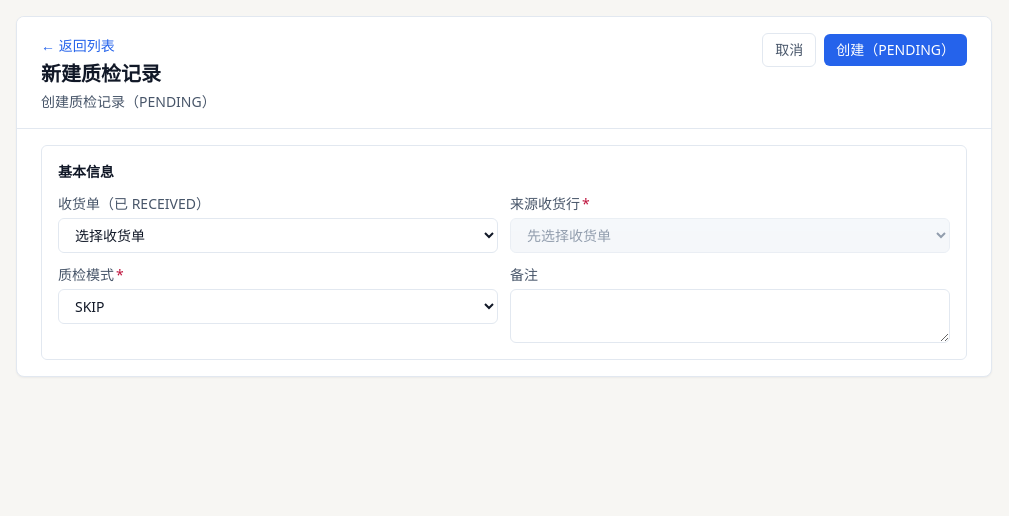
Inspection Create (ui-08) — 收货单 → 来源行级联 + POST 契约 › 未选来源收货行提交 → 校验错误（purchaseReceiptLineId 必填）
Expected: the heading "新建质检记录" is shown, [41,60,161,87]
Click the button "创建（PENDING）": (896, 50) [824,34,967,66]
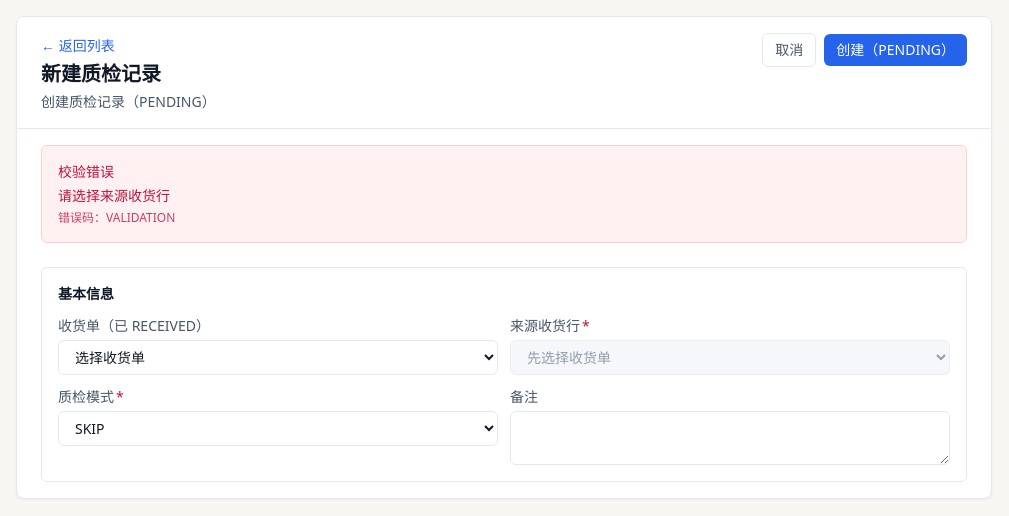
Expected: the message "校验错误 请选择来源收货行 错误码：VALIDATION" is shown, [41,145,967,243]
Expected: the text "请选择来源收货行" is shown, [58,186,170,205]
